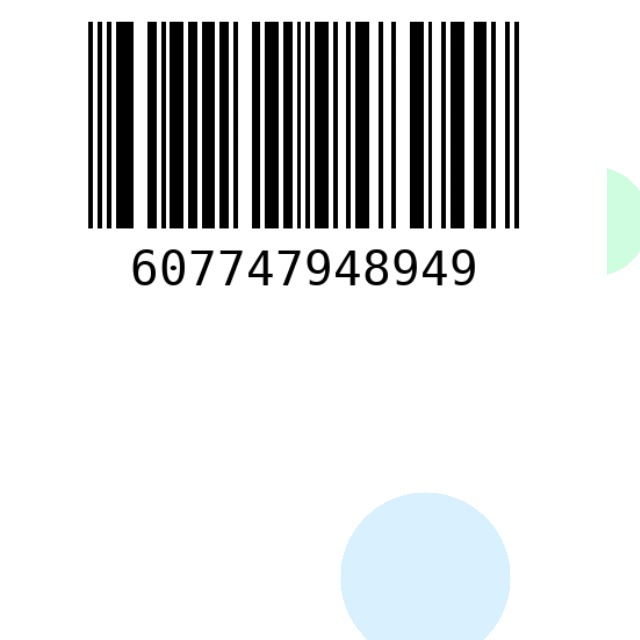barcode: (0, 9, 607, 334)
